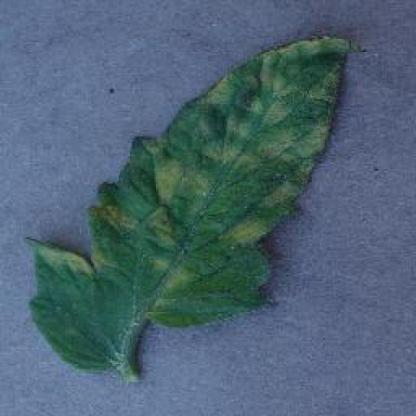Tomato_Leaf_Mold: (31, 32, 350, 360)
